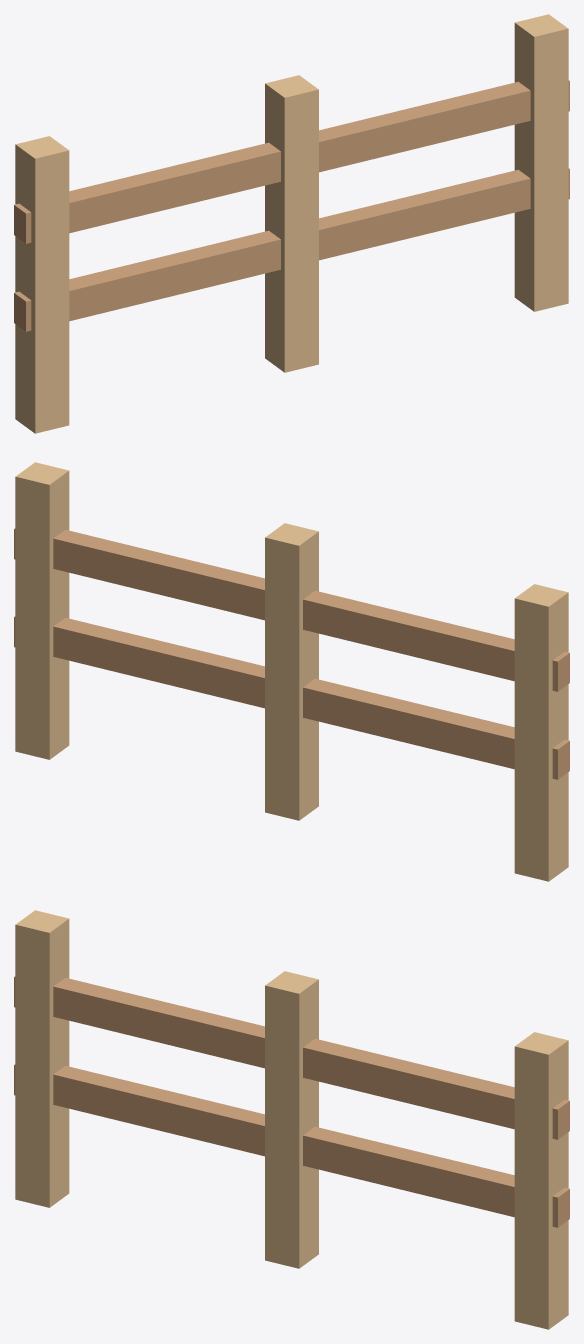
The model's file is deco_fence.glb.
3 renders of one model, top to bottom at view 1: azimuth 30°, elevation 25°; view 2: azimuth 150°, elevation 25°; view 3: azimuth 330°, elevation 25°, orthographic.
Visible parts, largest first — view 1: horizontal rail.001, horizontal rail, fence post, fence post.002, fence post.001; view 2: horizontal rail.001, horizontal rail, fence post, fence post.002, fence post.001; view 3: horizontal rail.001, horizontal rail, fence post.002, fence post, fence post.001.
Boxes of the visible parts, <box> form: horizontal rail.001: <box>14,80,569,243</box>; horizontal rail: <box>14,168,569,331</box>; fence post: <box>15,136,69,433</box>; fence post.002: <box>514,14,568,311</box>; fence post.001: <box>265,75,318,372</box>; horizontal rail.001: <box>14,528,569,691</box>; horizontal rail: <box>14,616,569,779</box>; fence post: <box>514,584,568,881</box>; fence post.002: <box>15,462,69,759</box>; fence post.001: <box>265,523,318,820</box>; horizontal rail.001: <box>14,976,569,1139</box>; horizontal rail: <box>14,1064,569,1227</box>; fence post.002: <box>514,1032,568,1329</box>; fence post: <box>15,910,69,1207</box>; fence post.001: <box>265,971,318,1268</box>.
Size of the model in its own units: 2.07 by 1 by 0.13.
